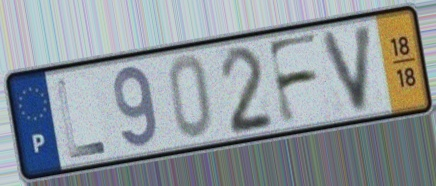0: (165, 51, 216, 144)
2: (218, 43, 276, 138)
9: (110, 61, 161, 152)
F: (264, 30, 323, 129)
L: (53, 76, 109, 162)
V: (318, 20, 377, 117)
